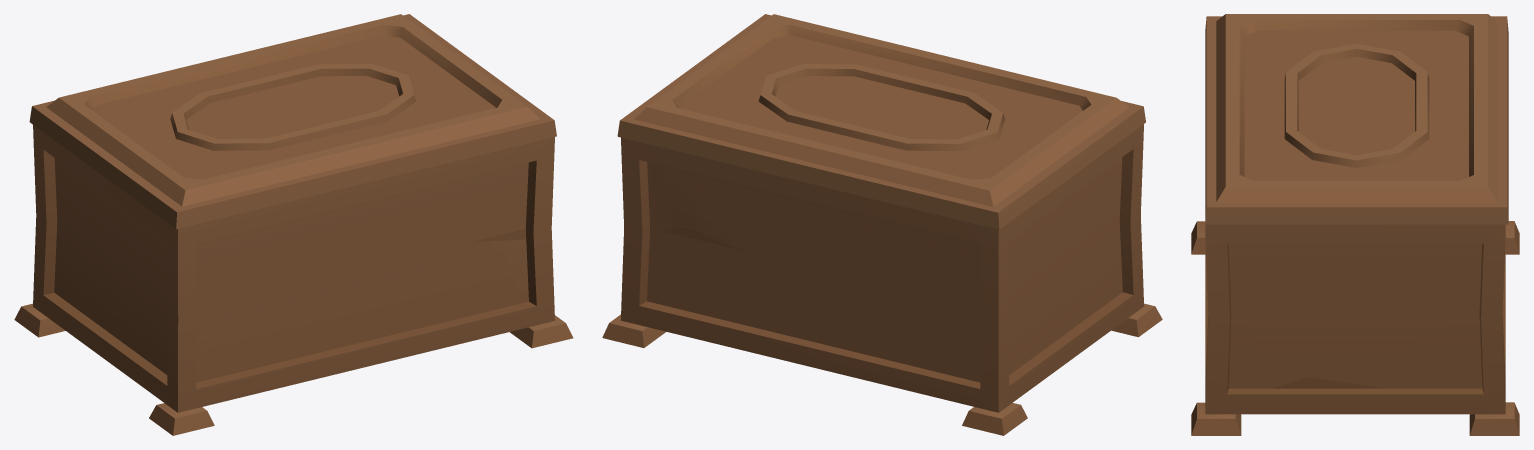
Rendered from ChestSmall2.fbx.
3 views of the same model, side by side, from view 1: azimuth 30°, elevation 25°; view 2: azimuth 150°, elevation 25°; view 3: azimuth 270°, elevation 25° (orthographic). The views are drawn at different scales.
Visible parts, largest first — view 1: ChestSmall2, ChestSmall2_Lid; view 2: ChestSmall2, ChestSmall2_Lid; view 3: ChestSmall2_Lid, ChestSmall2.
Boxes of the visible parts, x1,y1,x2,y2 form: ChestSmall2: (14, 125, 573, 435); ChestSmall2_Lid: (29, 14, 556, 229); ChestSmall2: (602, 124, 1162, 435); ChestSmall2_Lid: (617, 14, 1145, 229); ChestSmall2_Lid: (1205, 14, 1508, 224); ChestSmall2: (1191, 221, 1519, 435).
Bounding box in the file's own units: 46.46 × 25.08 × 31.87.
